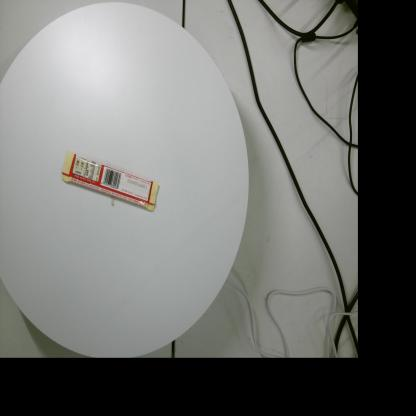Chocolate: (62, 151, 158, 211)
